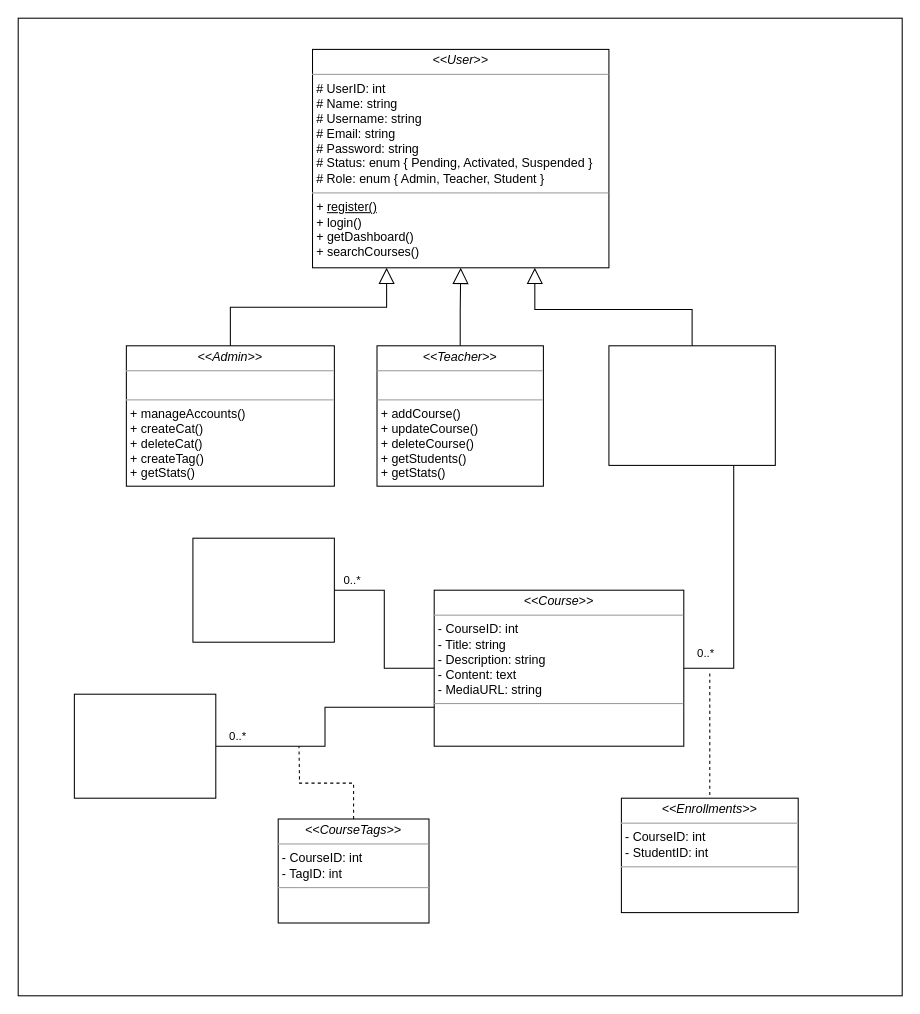
Image size: 920x1014. Some labels were removed from this diagram. The shapes that lost their labels are listed below. From the top down, each one's box as (x1, y1, x2, y2) in pixels, then its label:
(608, 345, 775, 465): <<Student>> + getCourseDetails() + joinCourse() + getMyCourses()
(192, 537, 334, 642): << Category >> - CategoryID: int - CatName: string
(73, 693, 216, 798): <<Tags >> - TagID: int - TagName: string
